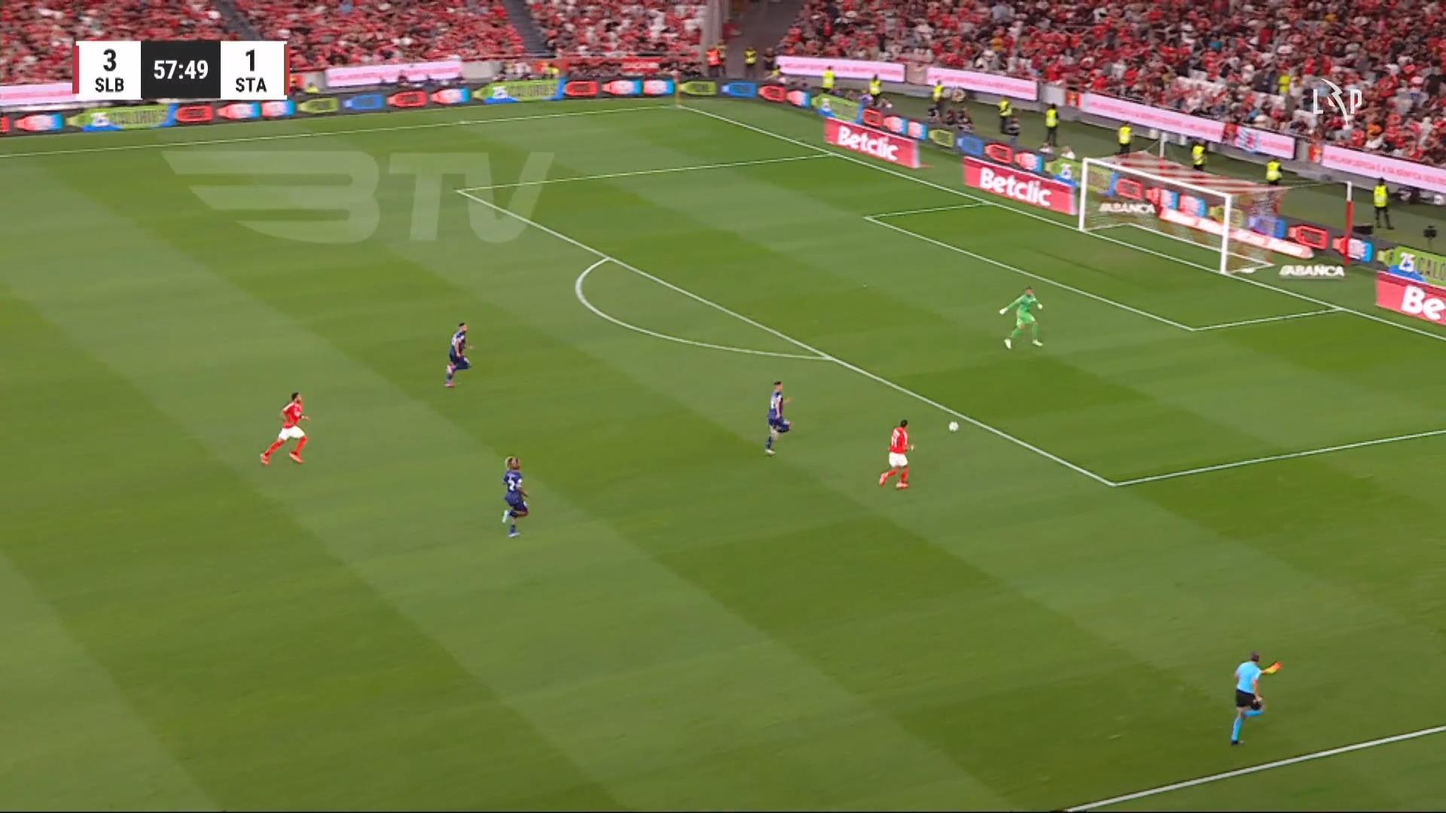ball: (947, 420, 958, 431)
goalkeeper: (997, 285, 1044, 349)
player: (258, 391, 310, 465), (877, 418, 914, 489), (500, 455, 529, 537), (763, 379, 792, 455), (444, 321, 474, 388)
referee: (1229, 650, 1282, 746)
